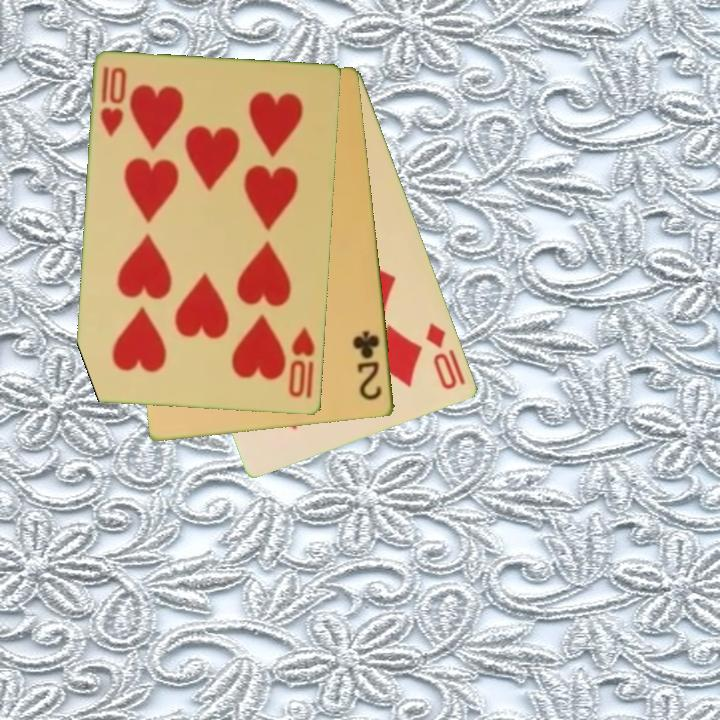10d: (422, 319, 461, 393)
10h: (285, 324, 318, 401), (97, 63, 130, 140)
2c: (349, 327, 385, 404)
